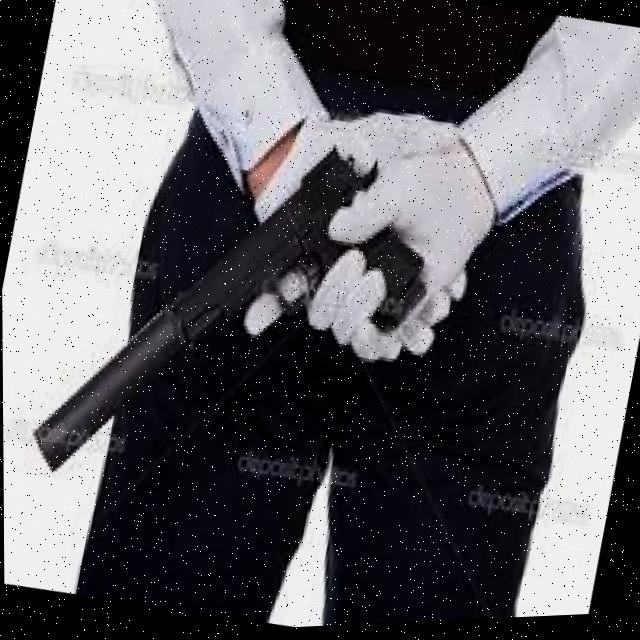pistol: (26, 99, 384, 525)
